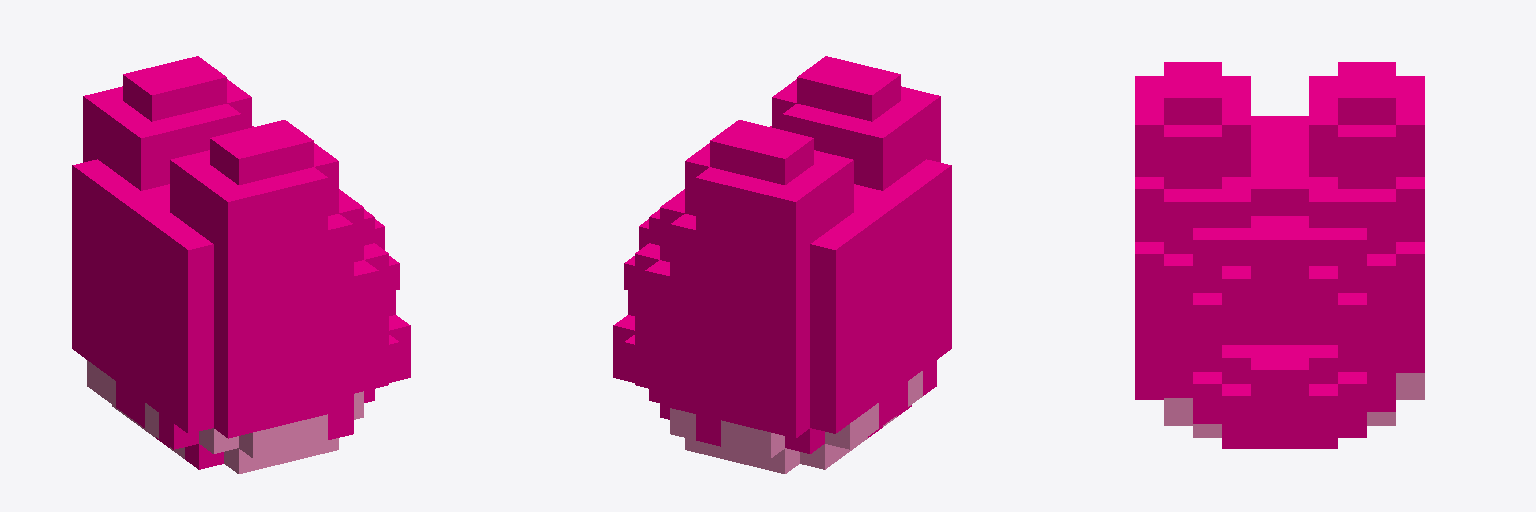
3 renders of one model, left to right at view 1: azimuth 30°, elevation 25°; view 2: azimuth 150°, elevation 25°; view 3: azimuth 270°, elevation 25°, orthographic.
Visible parts, largest first — view 1: object 1; view 2: object 1; view 3: object 1.
Part boxes in pixels (x1,y1,x2,y2): object 1: (72,56,410,473); object 1: (613,56,951,473); object 1: (1135,62,1424,448).
Bounding box in the file's own units: 1 × 1.2 × 1.
Materials: 1 (1 with a texture image).